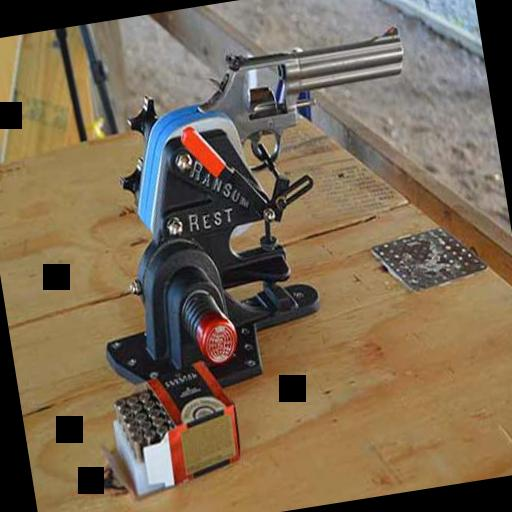Handgun: (182, 18, 418, 178)
